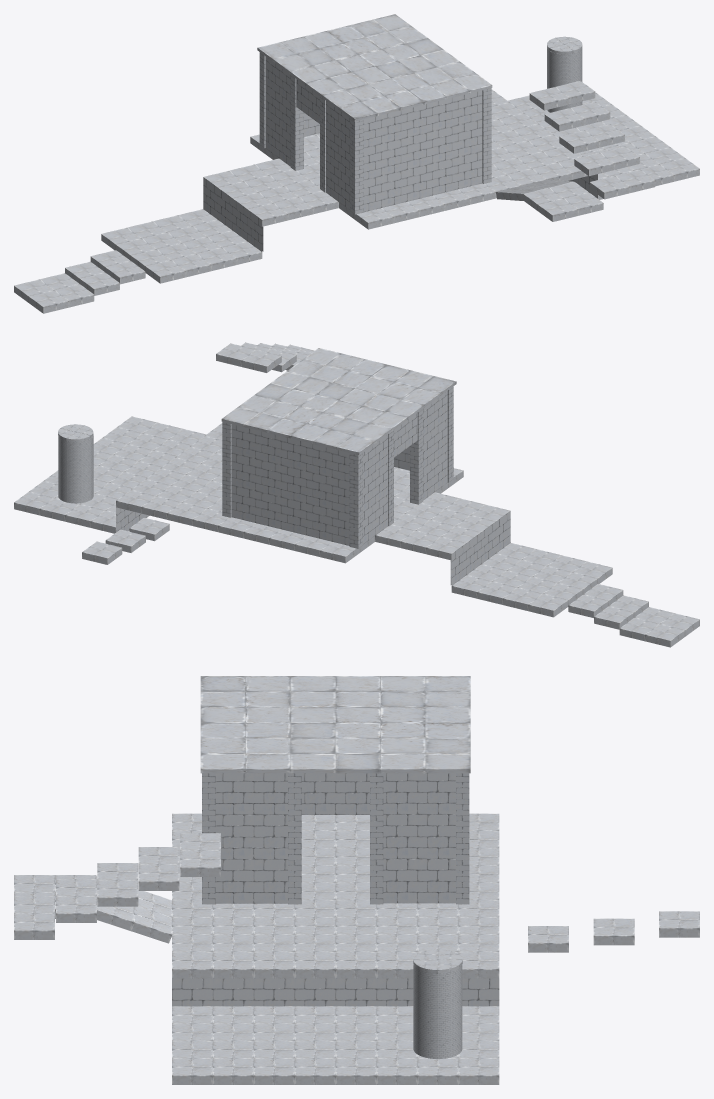
File: stageAppearance.fbx
3 renders of one model, top to bottom at view 1: azimuth 30°, elevation 25°; view 2: azimuth 150°, elevation 25°; view 3: azimuth 270°, elevation 25°, orthographic. The views are drawn at different scales.
Visible parts, largest first — view 1: Ground_C_3x3__2_, Wall_A_1x1__117_, Wall_A_1x1__121_, Wall_A_1x1__118_, Wall_A_1x1__123_, Wall_A_1x1__122_, Wall_A_1x1__120_, Wall_A_1x1__127_, Wall_A_1x1__126_, Wall_A_1x1__116_, Wall_A_1x1__124_, Wall_A_1x1__119_ (+47 smaller); view 2: Ground_C_3x3__2_, Wall_A_1x1__108_, Wall_A_1x1__106_, Wall_A_1x1__107_, Wall_A_1x1__102_, Wall_A_1x1__105_, Wall_A_1x1__101_, Wall_A_1x1__111_, Wall_A_1x1__110_, Wall_A_1x1__109_, Wall_A_1x1__103_, Wall_A_1x1__104_ (+39 smaller); view 3: Ground_C_3x3__2_, Wall_A_1x1__59_, Wall_A_1x1__56_, Wall_A_1x1__51_, Wall_A_1x1__54_, Wall_A_1x1__60_, Wall_A_1x1__53_, Wall_A_1x1__58_, Wall_A_1x1__57_, Wall_A_1x1__52_, Wall_A_1x1__50_, Wall_A_1x1__61_ (+97 smaller).
Part boxes in pixels (x1,y1,x2,y2): Ground_C_3x3__2_: [257, 14, 492, 121]; Wall_A_1x1__117_: [381, 138, 407, 175]; Wall_A_1x1__121_: [432, 157, 458, 195]; Wall_A_1x1__118_: [381, 170, 407, 207]; Wall_A_1x1__123_: [432, 125, 458, 163]; Wall_A_1x1__122_: [407, 163, 432, 201]; Wall_A_1x1__120_: [407, 131, 432, 169]; Wall_A_1x1__127_: [458, 151, 482, 188]; Wall_A_1x1__126_: [458, 119, 482, 156]; Wall_A_1x1__116_: [381, 109, 407, 143]; Wall_A_1x1__124_: [432, 96, 458, 131]; Wall_A_1x1__119_: [407, 102, 432, 137]; Ground_C_3x3__2_: [221, 348, 456, 455]; Wall_A_1x1__108_: [281, 465, 306, 503]; Wall_A_1x1__106_: [281, 497, 306, 535]; Wall_A_1x1__107_: [255, 491, 280, 528]; Wall_A_1x1__102_: [306, 471, 331, 509]; Wall_A_1x1__105_: [255, 459, 280, 496]; Wall_A_1x1__101_: [306, 503, 331, 541]; Wall_A_1x1__111_: [231, 453, 255, 490]; Wall_A_1x1__110_: [231, 485, 255, 522]; Wall_A_1x1__109_: [281, 436, 306, 471]; Wall_A_1x1__103_: [306, 442, 331, 477]; Wall_A_1x1__104_: [255, 430, 280, 464]; Ground_C_3x3__2_: [200, 676, 470, 773]; Wall_A_1x1__59_: [417, 814, 455, 858]; Wall_A_1x1__56_: [417, 859, 455, 903]; Wall_A_1x1__51_: [215, 859, 253, 903]; Wall_A_1x1__54_: [215, 773, 253, 814]; Wall_A_1x1__60_: [417, 773, 455, 814]; Wall_A_1x1__53_: [215, 814, 253, 859]; Wall_A_1x1__58_: [383, 814, 417, 858]; Wall_A_1x1__57_: [383, 859, 417, 903]; Wall_A_1x1__52_: [254, 814, 287, 859]; Wall_A_1x1__50_: [254, 859, 287, 903]; Wall_A_1x1__61_: [383, 773, 417, 814].
Bounding box in the file's own units: 12000 × 2848 × 8380.
